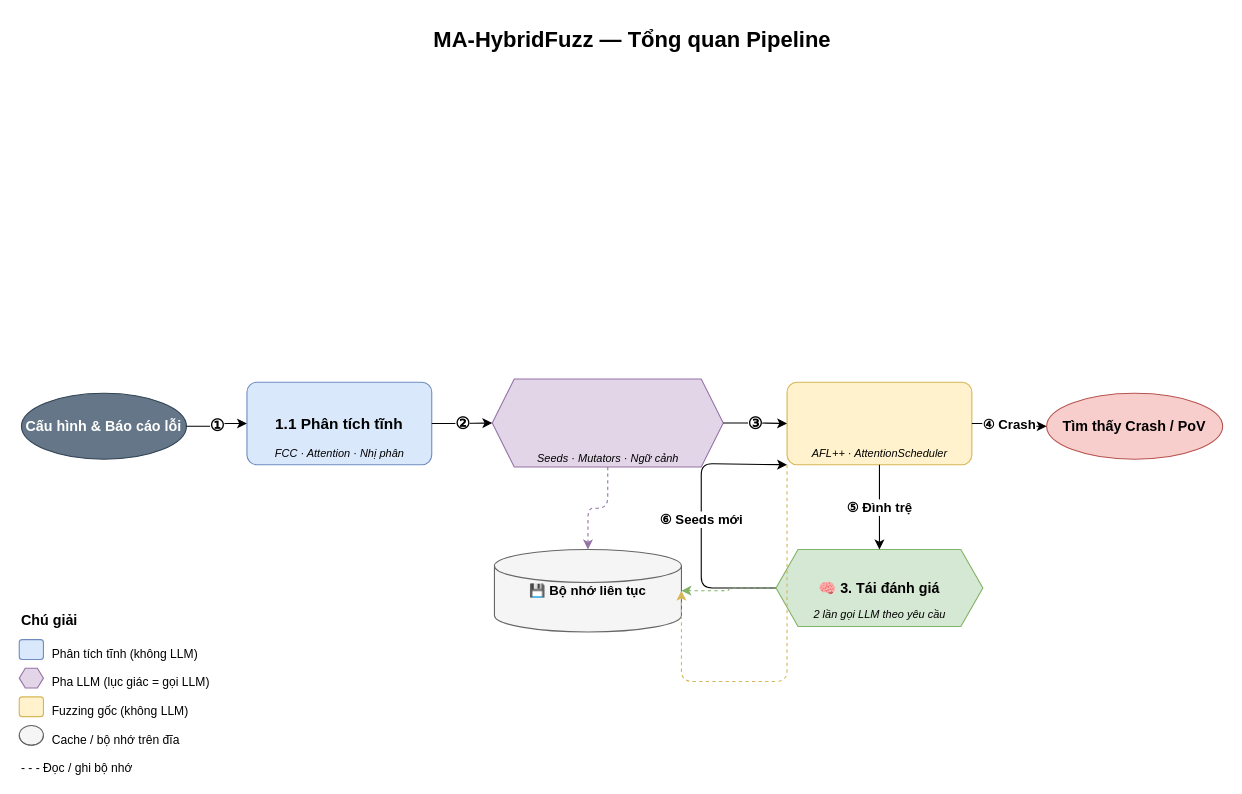
Image size: 1242x794. Some labels were removed from this diagram. The box of each missing label's shape, as (x1, y1, x2, y2) in pixels:
⚡ 2. Vòng lặp Fuzzing: (786, 381, 972, 465)
🧠 1.2 Tiền xử lý LLM: (491, 378, 723, 467)
